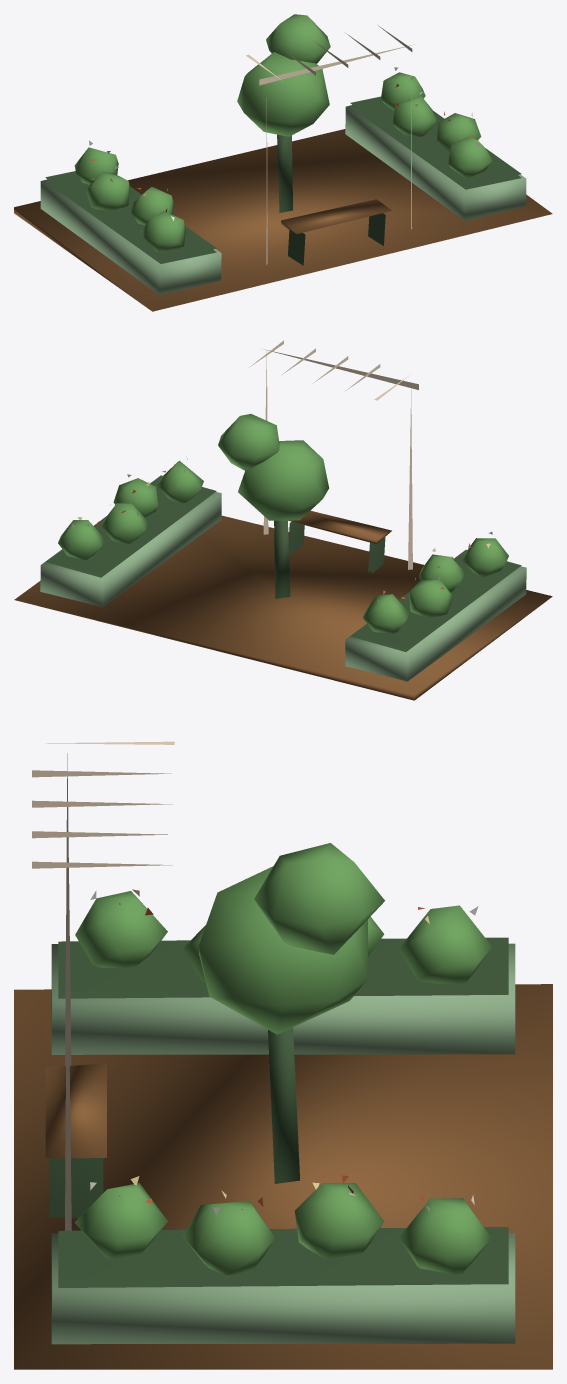
The model's file is lod_rooftop_garden.glb.
3 views of the same model, one above another, from view 1: azimuth 30°, elevation 25°; view 2: azimuth 150°, elevation 25°; view 3: azimuth 270°, elevation 25° (orthographic). The views are drawn at different scales.
Parts seen in each view (by area): view 1: rooftop_garden; view 2: rooftop_garden; view 3: rooftop_garden.
Boxes of the visible parts, box(x1,y1,x2,y2) form: rooftop_garden: box(14, 14, 552, 311); rooftop_garden: box(14, 340, 552, 700); rooftop_garden: box(14, 741, 552, 1369).
Size of the model in its own units: 4.99 by 2.36 by 2.99.
